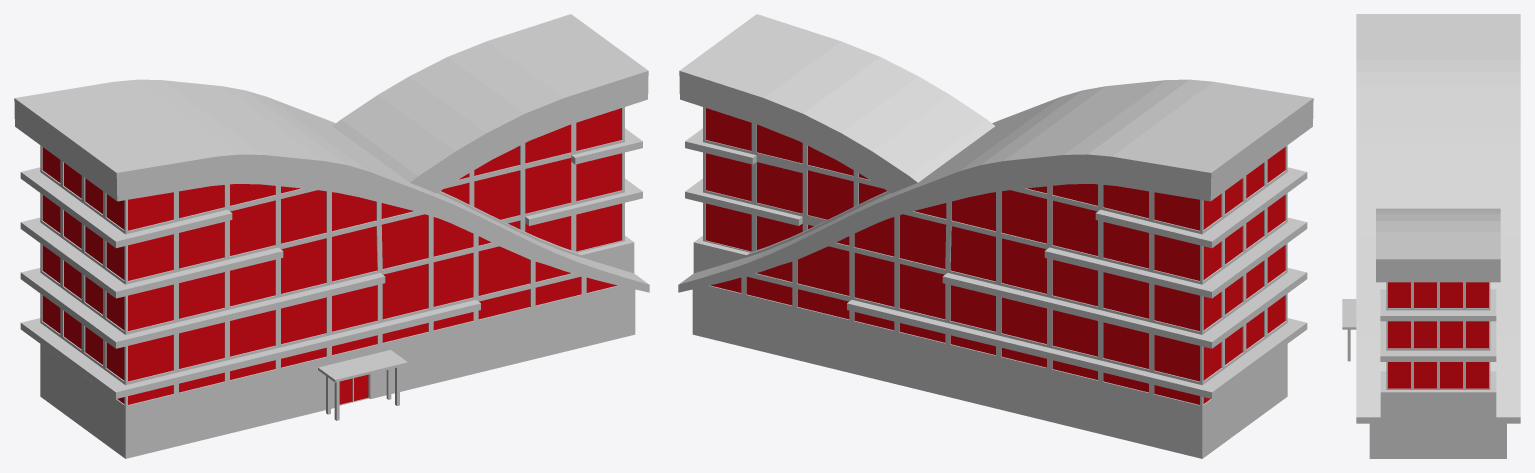
Rendered from SM_infrastructure_buildings_01.glb.
The picture shows the model from 3 angles, left to right: view 1: azimuth 30°, elevation 25°; view 2: azimuth 150°, elevation 25°; view 3: azimuth 270°, elevation 25°; orthographic projection. The views are drawn at different scales.
Visible parts, largest first — view 1: infrastructure_buildings_01; view 2: infrastructure_buildings_01; view 3: infrastructure_buildings_01.
Part boxes in pixels (<box>): infrastructure_buildings_01: <box>14,14,649,458</box>; infrastructure_buildings_01: <box>678,14,1313,458</box>; infrastructure_buildings_01: <box>1342,14,1520,458</box>.
Size of the model in its own units: 34 by 17.69 by 12.
